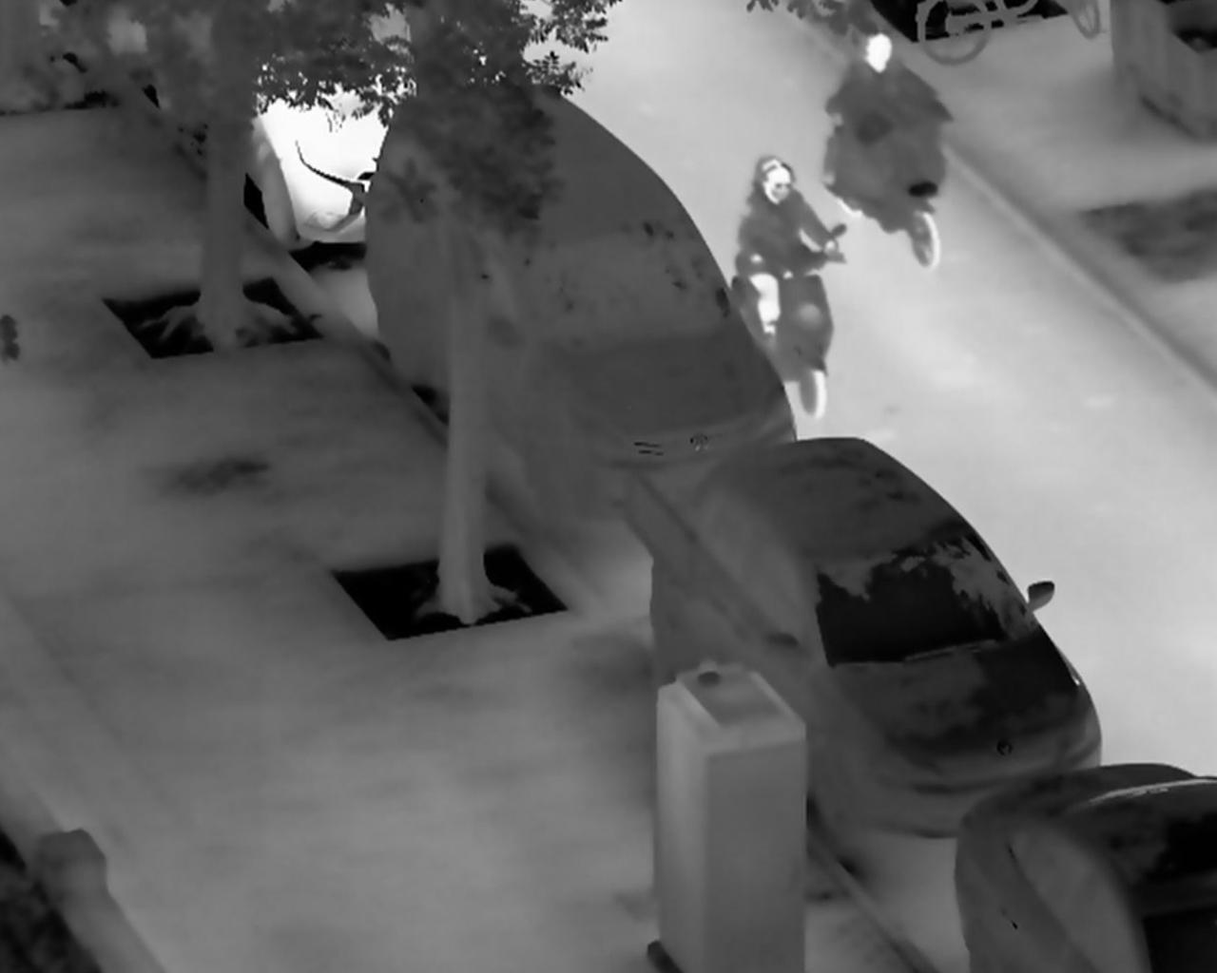person: (734, 150, 840, 346), (826, 33, 945, 143)
